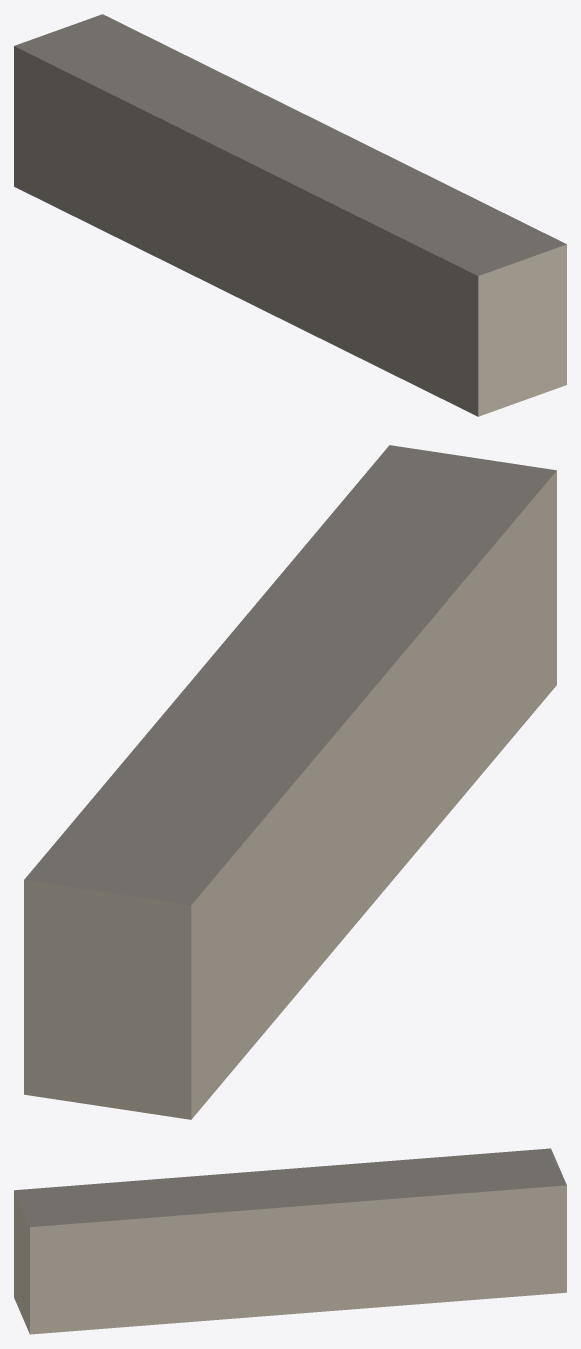
The picture shows the model from 3 angles, top to bottom: view 1: azimuth 30°, elevation 25°; view 2: azimuth 150°, elevation 25°; view 3: azimuth 270°, elevation 25°; orthographic projection. The views are drawn at different scales.
Visible parts, largest first — view 1: HP-w299010074; view 2: HP-w299010074; view 3: HP-w299010074.
Part boxes in pixels (bbox=[...]): HP-w299010074: bbox=[14, 14, 566, 416]; HP-w299010074: bbox=[24, 445, 556, 1119]; HP-w299010074: bbox=[14, 1148, 566, 1334].
Bounding box in the file's own units: 28.33 × 18 × 84.05.
